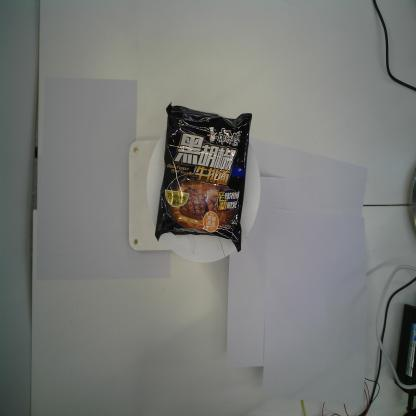Instant Noodles: (154, 100, 253, 256)
